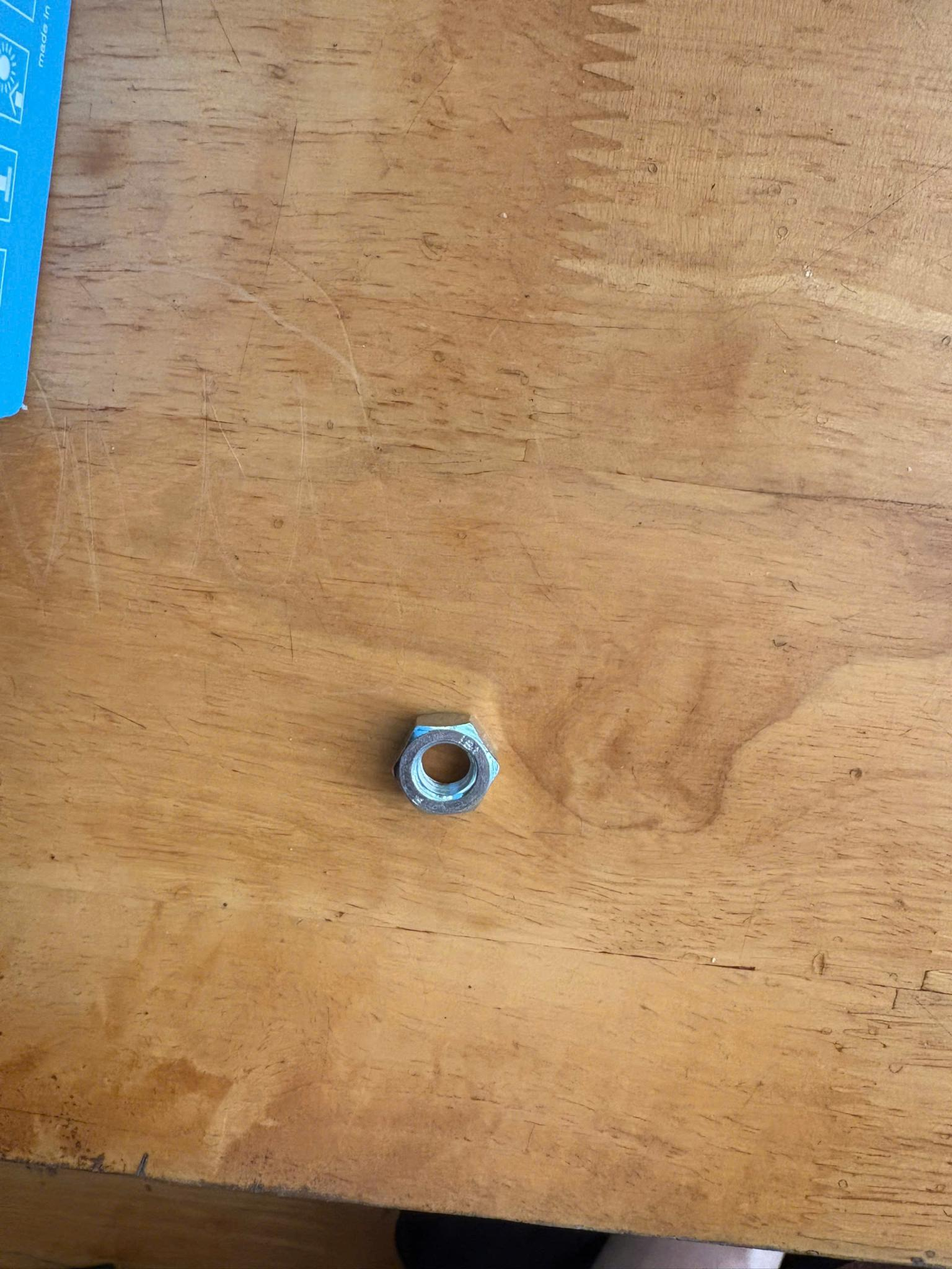nut: (367, 694, 516, 835)
